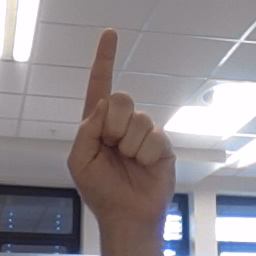F: (66, 26, 181, 208)
